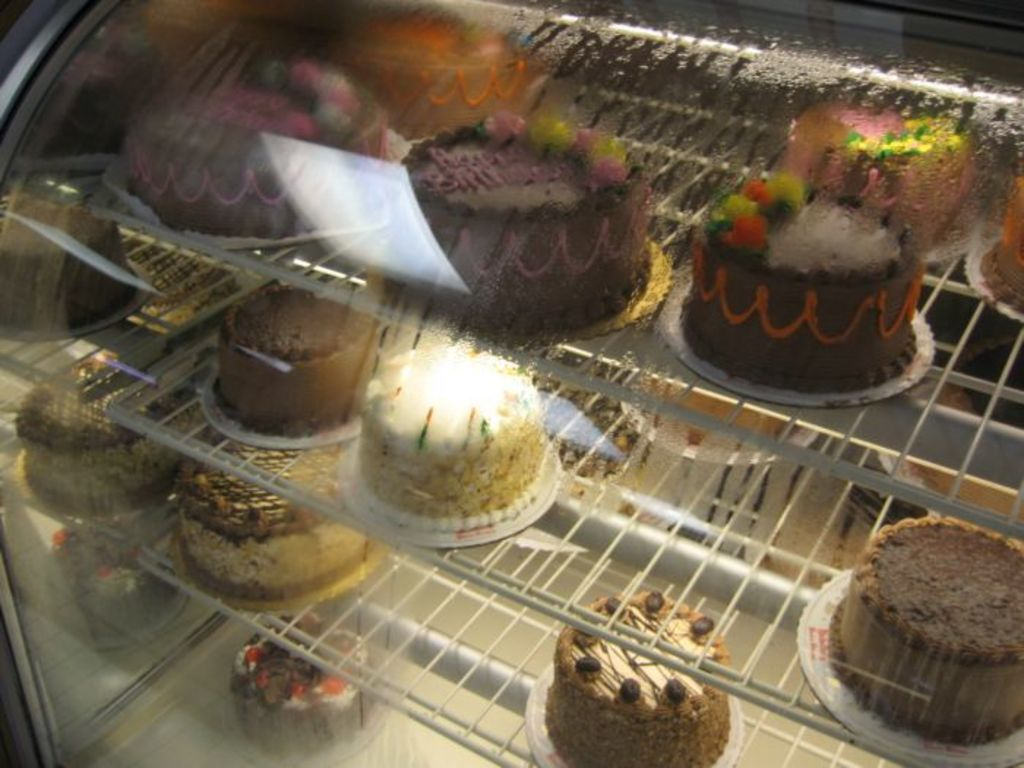cake: (389, 113, 644, 334), (676, 184, 927, 394), (827, 516, 1023, 746), (360, 328, 554, 532), (130, 69, 336, 233), (547, 590, 729, 767), (178, 443, 373, 606), (18, 361, 205, 516), (215, 285, 388, 439), (233, 610, 372, 749), (45, 522, 184, 644)
